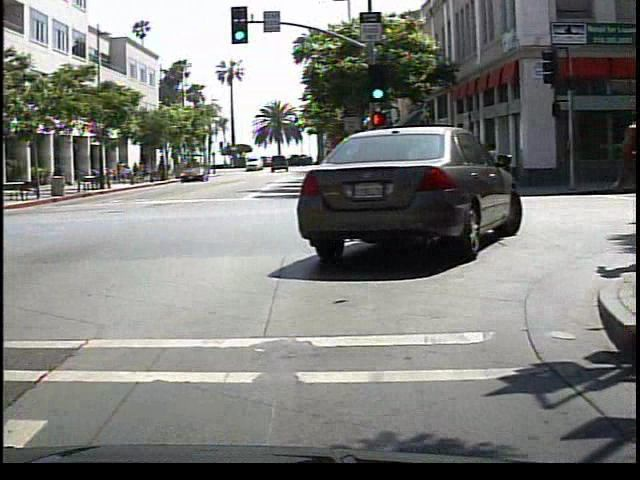person: (47, 159, 64, 191)
